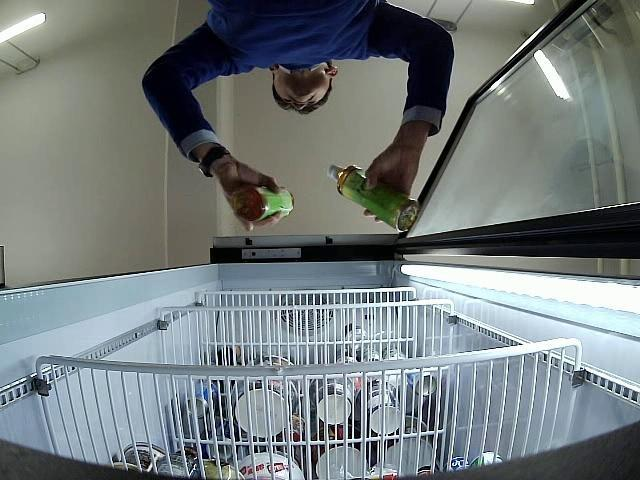19_17cha: (326, 163, 418, 233), (226, 183, 293, 223)
